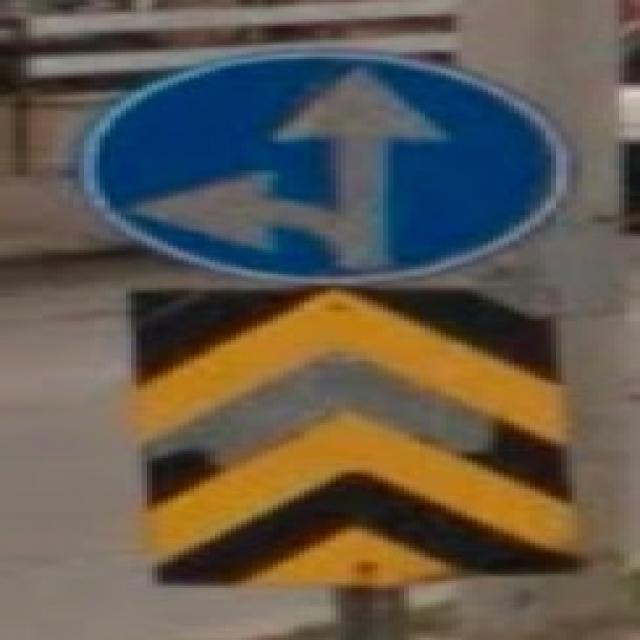Straight or Left: (77, 50, 570, 286)
